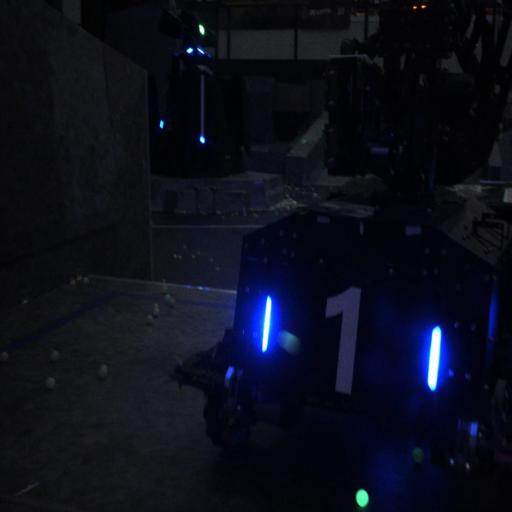target: (258, 252, 450, 431)
